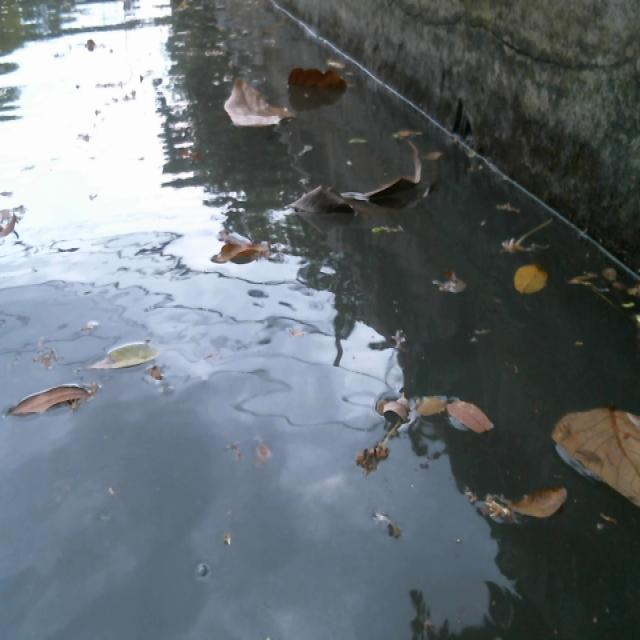Big-leaf: (269, 145, 432, 235), (554, 400, 640, 510), (209, 214, 294, 289), (227, 75, 300, 144), (288, 65, 355, 102)
Small-leaf: (465, 481, 568, 536), (0, 367, 98, 423), (448, 386, 511, 464), (87, 333, 175, 377), (510, 252, 551, 305), (335, 127, 384, 158), (405, 386, 452, 418), (435, 262, 465, 296), (382, 115, 418, 141), (328, 53, 348, 69)
